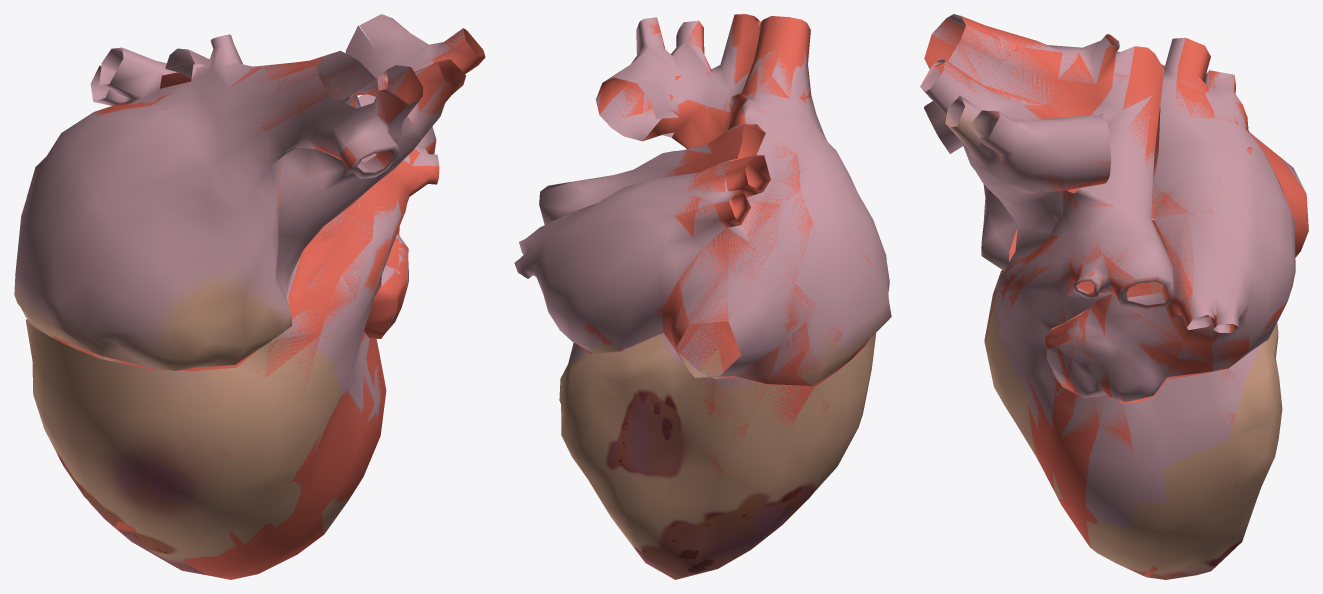
The model's file is heart.fbx.
The picture shows the model from 3 angles, left to right: view 1: azimuth 30°, elevation 25°; view 2: azimuth 150°, elevation 25°; view 3: azimuth 270°, elevation 25°; orthographic projection. The views are drawn at different scales.
Parts seen in each view (by area): view 1: coeur, coeur.001; view 2: coeur, coeur.001; view 3: coeur, coeur.001.
Boxes of the visible parts, x1,y1,x2,y2 form: coeur: [14, 14, 464, 575]; coeur.001: [52, 28, 485, 579]; coeur: [514, 17, 891, 579]; coeur.001: [533, 14, 871, 567]; coeur: [920, 14, 1304, 579]; coeur.001: [920, 16, 1308, 577].
Bounding box in the file's own units: 224 × 320 × 205.
2 materials, 1 textured.
